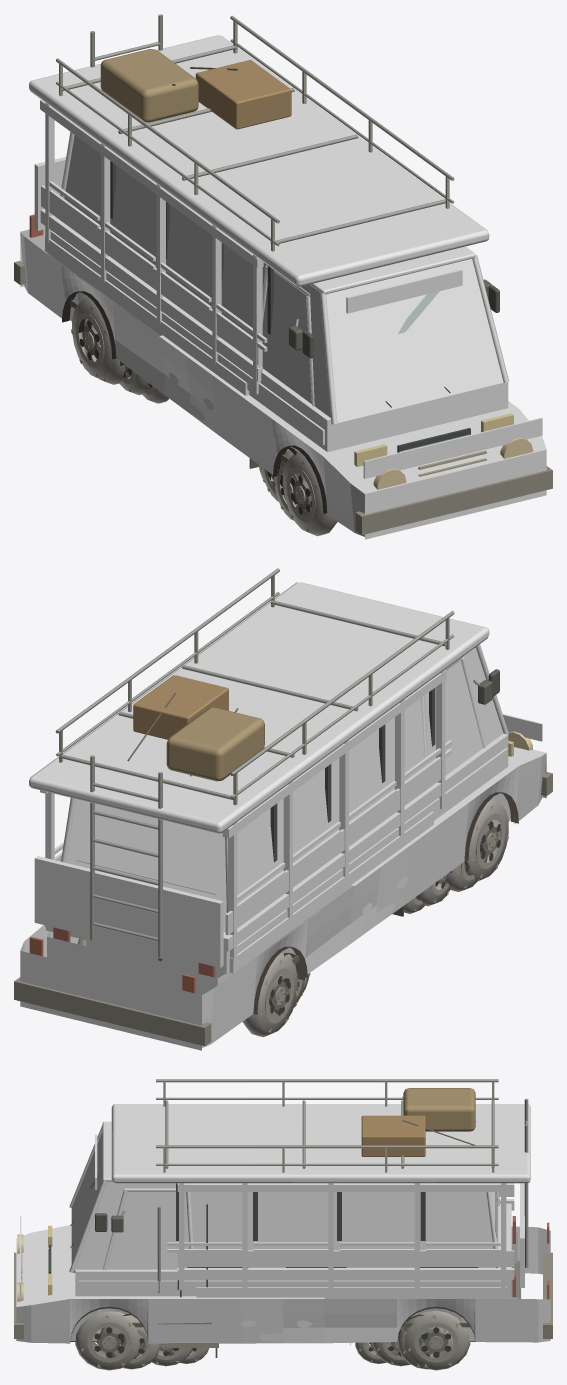
Rendered from vehicles_road.glb.
3 renders of one model, top to bottom at view 1: azimuth 30°, elevation 25°; view 2: azimuth 150°, elevation 25°; view 3: azimuth 270°, elevation 25°, orthographic. The views are drawn at different scales.
Visible parts, largest first — view 1: vehicle_chiva-0, vehicle_colectivo-2, vehicle_colectivo-0, vehicle_chiva-3, vehicle_chiva-1, vehicle_chiva-9, vehicle_chiva-4, vehicle_colectivo-1, vehicle_chiva-wheel_fl-0, vehicle_chiva-wheel_rl-0, vehicle_chiva-5, vehicle_chiva-wheel_fl-1 (+2 smaller); view 2: vehicle_chiva-0, vehicle_colectivo-2, vehicle_chiva-3, vehicle_colectivo-0, vehicle_chiva-1, vehicle_chiva-9, vehicle_chiva-4, vehicle_colectivo-1, vehicle_chiva-wheel_rl-0, vehicle_chiva-wheel_fl-0, vehicle_chiva-wheel_fl-1, vehicle_chiva-wheel_rl-1 (+1 smaller); view 3: vehicle_chiva-0, vehicle_colectivo-2, vehicle_colectivo-0, vehicle_chiva-3, vehicle_chiva-9, vehicle_chiva-4, vehicle_colectivo-1, vehicle_chiva-wheel_fr-0, vehicle_chiva-wheel_rr-0, vehicle_chiva-1, vehicle_chiva-wheel_fr-1, vehicle_chiva-wheel_rr-1 (+3 smaller).
Boxes of the visible parts, x1,y1,x2,y2 form: vehicle_chiva-0: (20,35,546,539); vehicle_colectivo-2: (64,135,503,423); vehicle_colectivo-0: (47,132,508,452); vehicle_chiva-3: (56,14,486,476); vehicle_chiva-1: (14,261,552,534); vehicle_chiva-9: (100,49,198,122); vehicle_chiva-4: (195,60,291,129); vehicle_colectivo-1: (69,161,499,505); vehicle_chiva-wheel_fl-0: (282,452,337,536); vehicle_chiva-wheel_rl-0: (71,298,113,379); vehicle_chiva-5: (373,437,533,489); vehicle_chiva-wheel_fl-1: (287,467,315,522); vehicle_chiva-0: (20,582,546,1050); vehicle_colectivo-2: (66,647,503,932); vehicle_chiva-3: (55,568,479,957); vehicle_colectivo-0: (46,644,510,994); vehicle_chiva-1: (14,680,552,1046); vehicle_chiva-9: (166,707,264,781); vehicle_chiva-4: (133,675,228,739); vehicle_colectivo-1: (270,669,499,980); vehicle_chiva-wheel_rl-0: (242,952,297,1037); vehicle_chiva-wheel_fl-0: (464,800,508,880); vehicle_chiva-wheel_fl-1: (476,813,504,868); vehicle_chiva-wheel_rl-1: (265,968,293,1023); vehicle_chiva-0: (16,1104,550,1343); vehicle_colectivo-2: (71,1132,498,1270); vehicle_colectivo-0: (69,1121,521,1341); vehicle_chiva-3: (21,1079,528,1293); vehicle_chiva-9: (403,1088,475,1131); vehicle_chiva-4: (361,1115,425,1156); vehicle_colectivo-1: (49,1183,520,1344); vehicle_chiva-wheel_fr-0: (75,1311,143,1370); vehicle_chiva-wheel_rr-0: (404,1310,470,1370); vehicle_chiva-1: (14,1215,552,1341); vehicle_chiva-wheel_fr-1: (87,1322,130,1362); vehicle_chiva-wheel_rr-1: (414,1322,457,1362).
Size of what is drawn, in the model's own units: 2.15 by 3.09 by 6.56.
